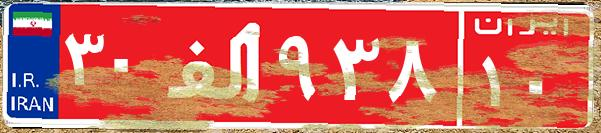0: (110, 28, 158, 105), (525, 38, 570, 115)
1: (475, 38, 525, 113)
3: (330, 28, 385, 110), (57, 26, 110, 107)
8: (385, 28, 445, 110)
9: (273, 28, 330, 110)
الف: (158, 15, 273, 115)
